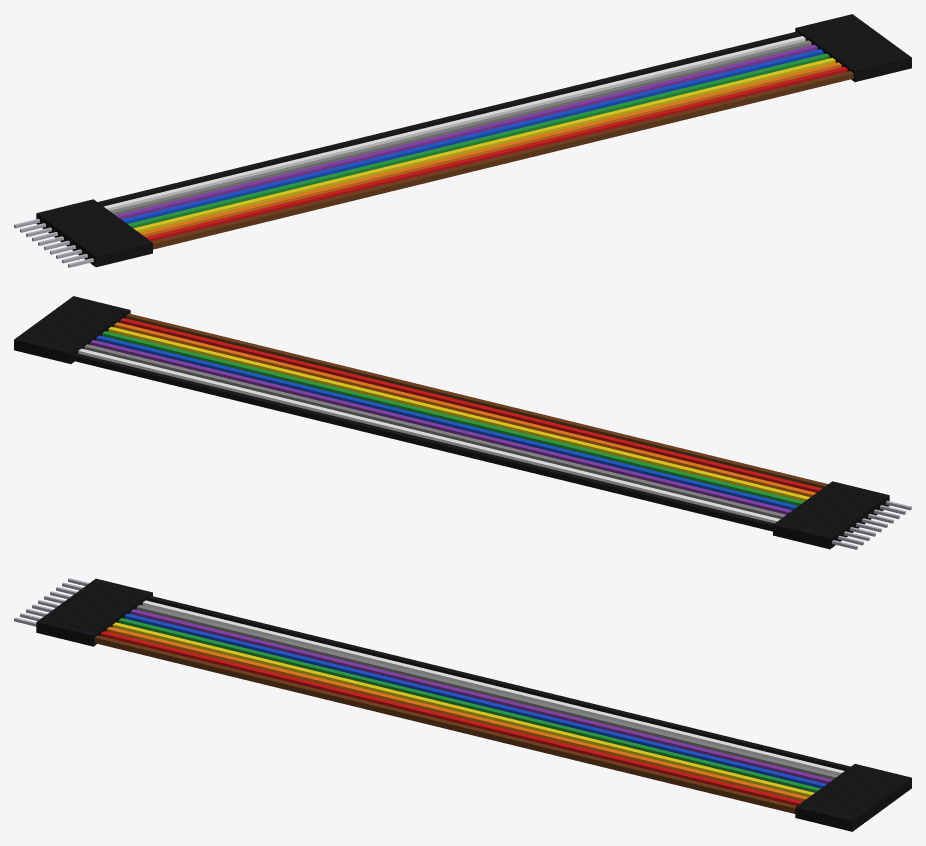
The model's file is jumpers.glb.
3 renders of one model, top to bottom at view 1: azimuth 30°, elevation 25°; view 2: azimuth 150°, elevation 25°; view 3: azimuth 330°, elevation 25°, orthographic.
Parts seen in each view (by area): view 1: conectores, fio0, fio4, fio1, fio2, fio3, fio5, fio6, fio8, fio7, fio9, nc_pinos; view 2: conectores, fio9, fio5, fio7, fio8, fio1, fio3, fio4, fio6, fio2, fio0, nc_pinos; view 3: conectores, fio0, fio1, fio5, fio8, fio3, fio7, fio2, fio9, fio4, fio6, nc_pinos.
Part boxes in pixels (<box>): conectores: <box>36,14,911,267</box>; fio0: <box>151,71,853,249</box>; fio4: <box>128,53,829,228</box>; fio1: <box>145,66,847,241</box>; fio2: <box>139,62,841,236</box>; fio3: <box>133,58,835,232</box>; fio5: <box>122,49,823,223</box>; fio6: <box>116,44,817,219</box>; fio8: <box>103,36,805,210</box>; fio7: <box>110,40,811,215</box>; fio9: <box>98,31,799,206</box>; nc_pinos: <box>14,218,93,267</box>; conectores: <box>14,296,889,549</box>; fio9: <box>72,353,774,531</box>; fio5: <box>96,335,797,510</box>; fio7: <box>84,344,786,518</box>; fio8: <box>78,348,780,523</box>; fio1: <box>120,318,822,492</box>; fio3: <box>108,326,809,501</box>; fio4: <box>102,331,803,505</box>; fio6: <box>90,340,792,514</box>; fio2: <box>114,322,815,497</box>; fio0: <box>126,313,827,488</box>; nc_pinos: <box>832,500,911,549</box>; conectores: <box>36,578,911,831</box>; fio0: <box>94,635,796,813</box>; fio1: <box>100,631,802,805</box>; fio5: <box>124,613,826,788</box>; fio8: <box>142,600,844,775</box>; fio3: <box>112,622,814,796</box>; fio7: <box>136,605,838,779</box>; fio2: <box>106,626,808,801</box>; fio9: <box>148,596,850,770</box>; fio4: <box>118,618,820,792</box>; fio6: <box>130,609,832,783</box>; nc_pinos: <box>14,578,89,626</box>.
Size of the model in its own units: 206 by 2.5 by 25.26.
